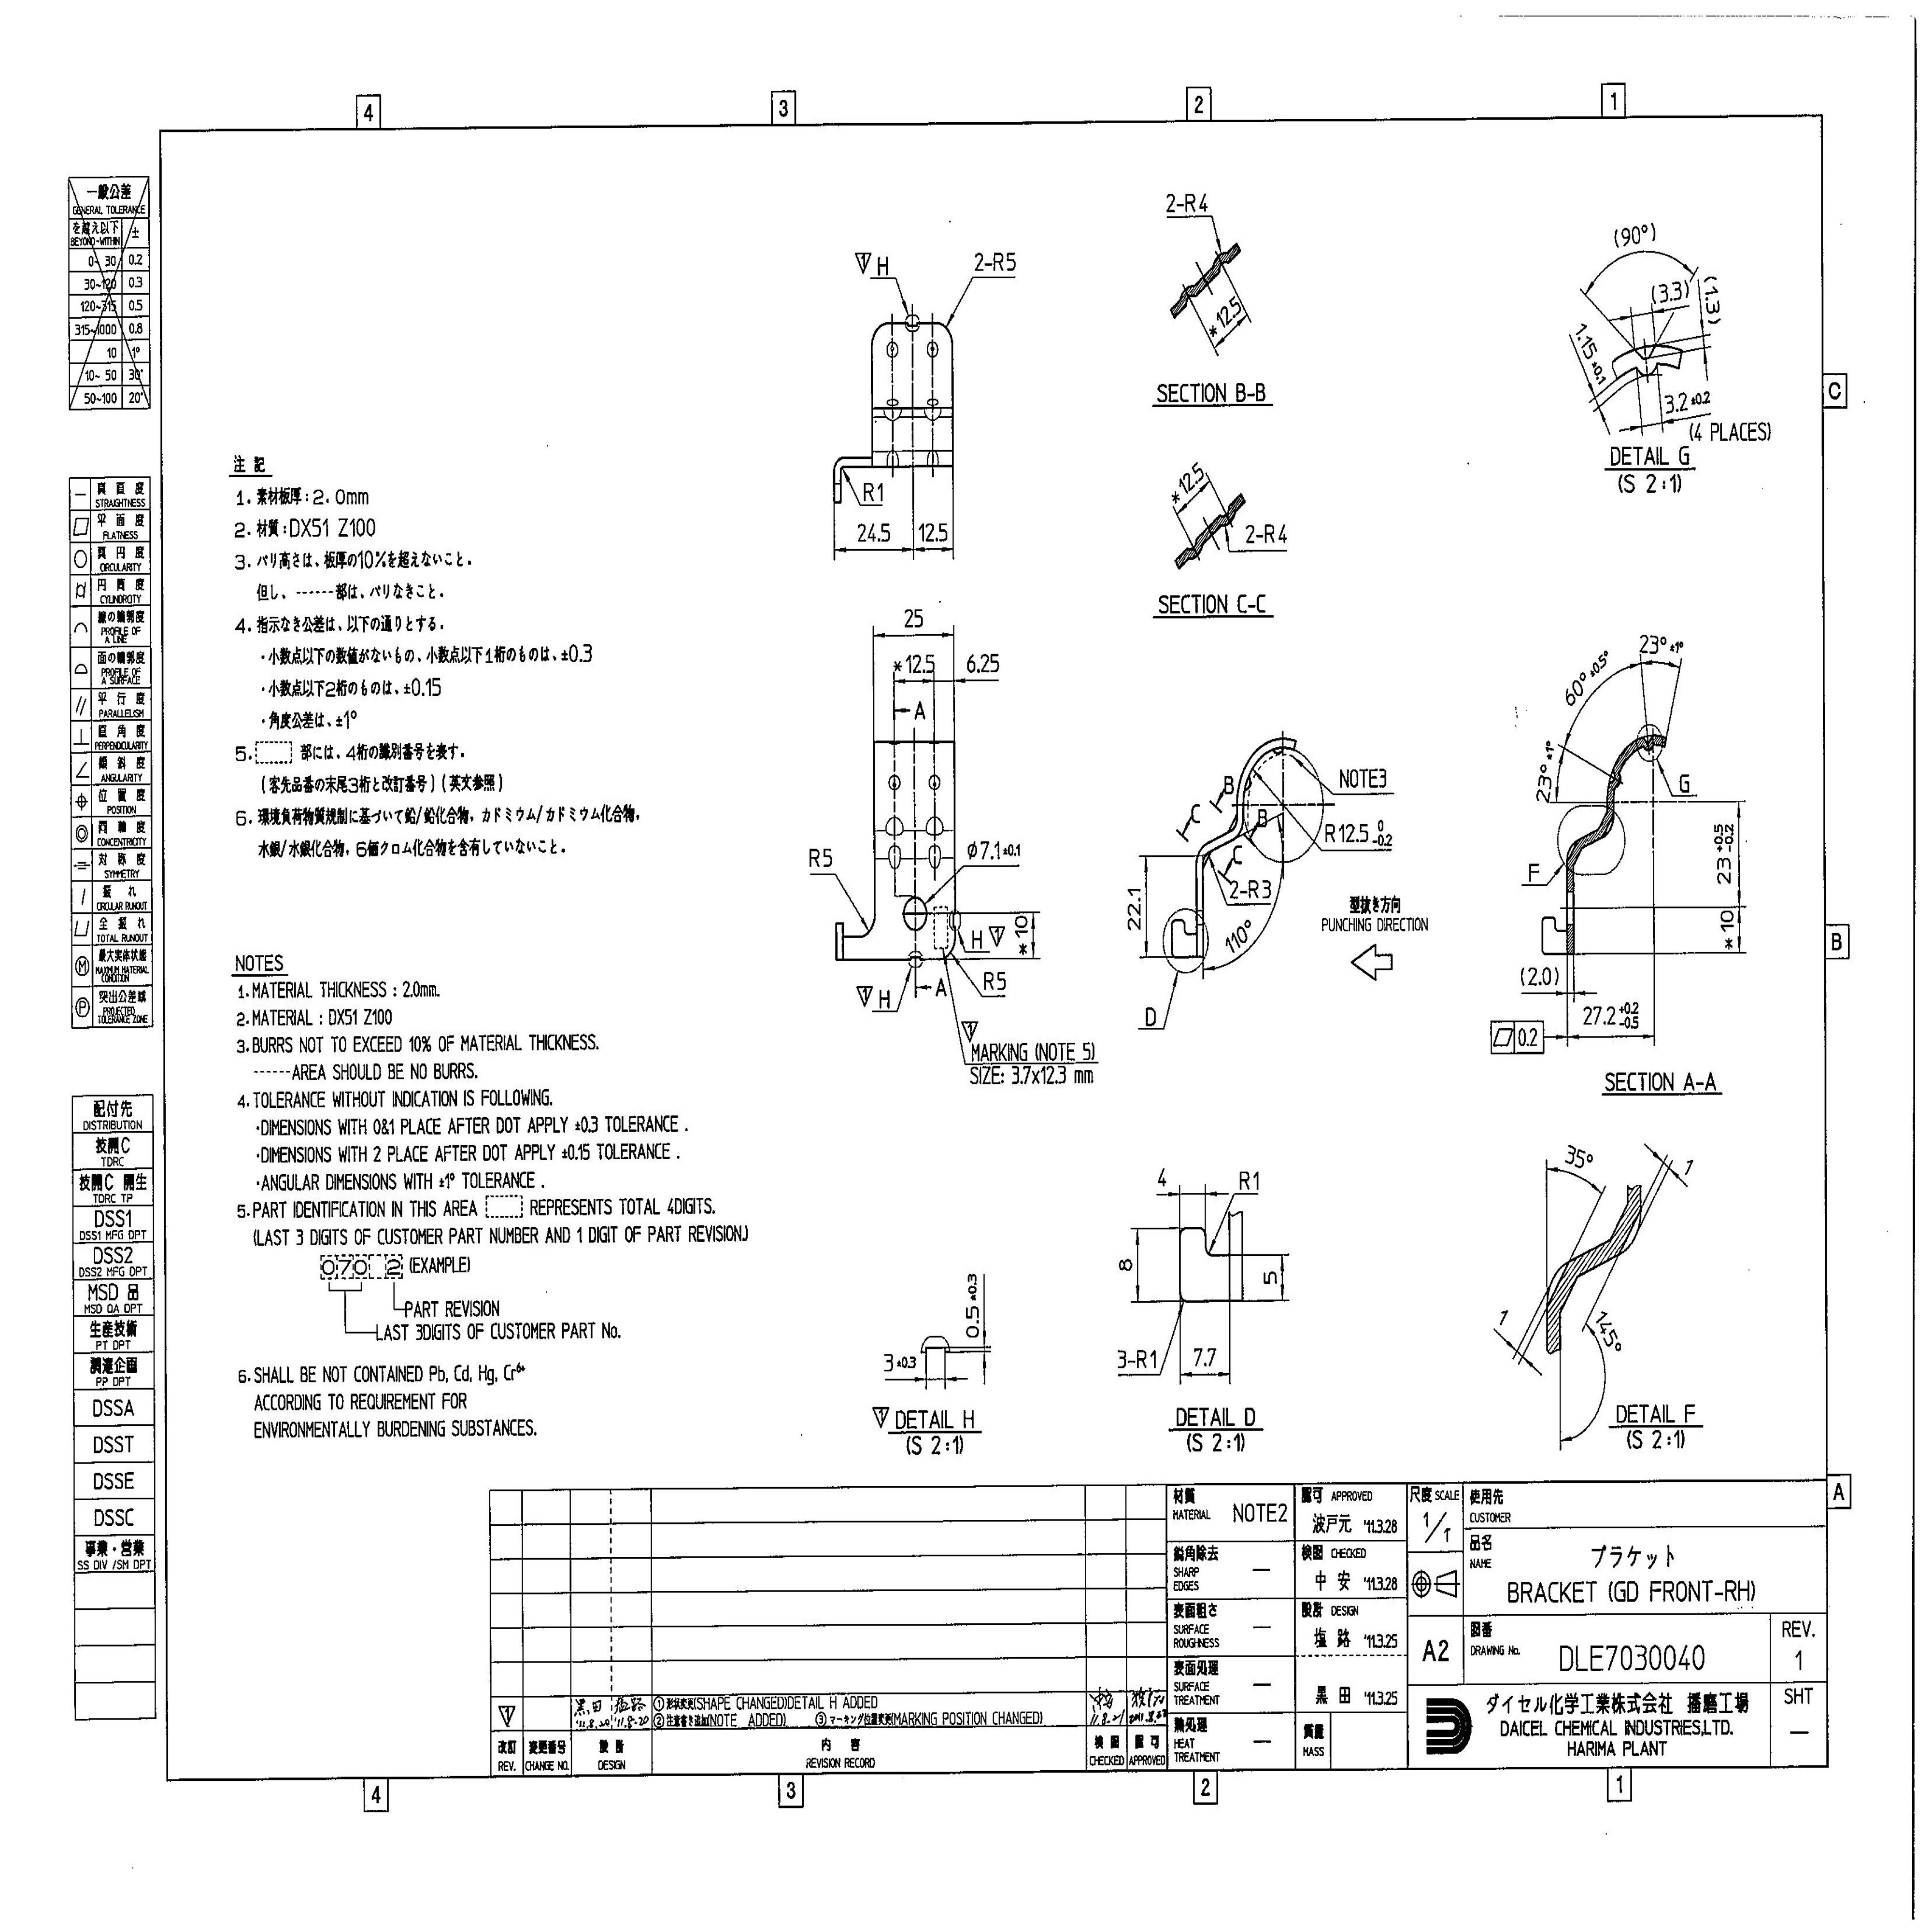InnerContour: (899, 895, 929, 932)
Notch: (951, 911, 960, 929), (905, 319, 920, 329), (908, 954, 923, 964)
